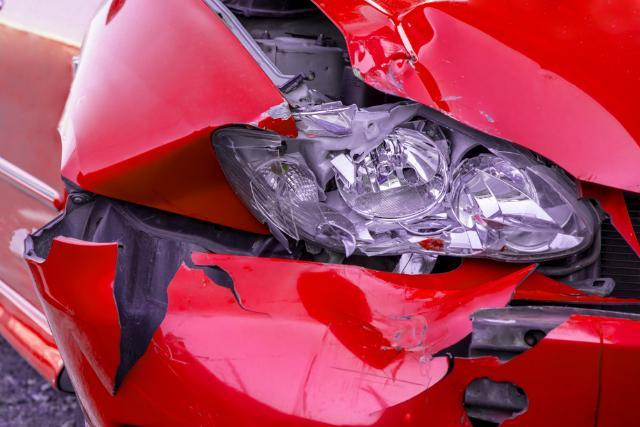crack: (109, 245, 271, 401), (426, 315, 572, 390), (594, 336, 605, 427)
dent: (165, 254, 531, 426), (77, 126, 262, 231), (340, 5, 449, 113)
dislocated part: (23, 176, 640, 427)
lamp broken: (211, 89, 596, 260)
